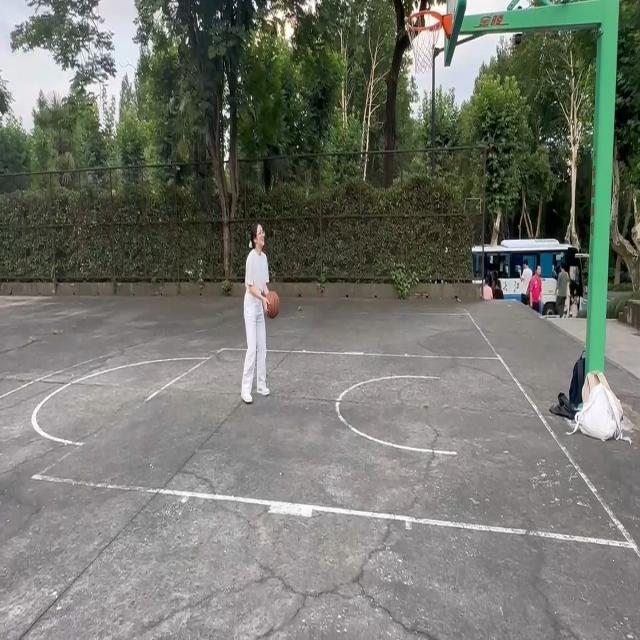basketball: (406, 8, 451, 87)
rim: (265, 290, 281, 319)
